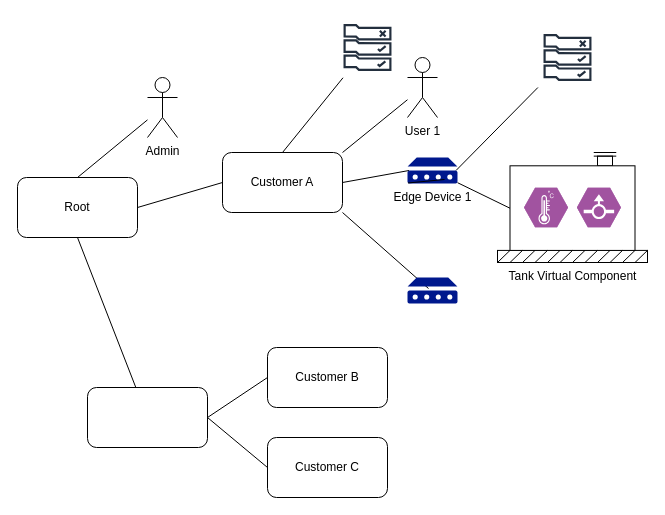
This 665x515 diagram has some shape labels left out. The shapes that lost their labels are listed below. From the top down, each one's centre as x and y in pixels, then its label:
the point at 367,47: Edge Dev Offline
the point at 567,57: High Tank Level
the point at 432,290: Edge Device 2
the point at 147,417: Service Provider
